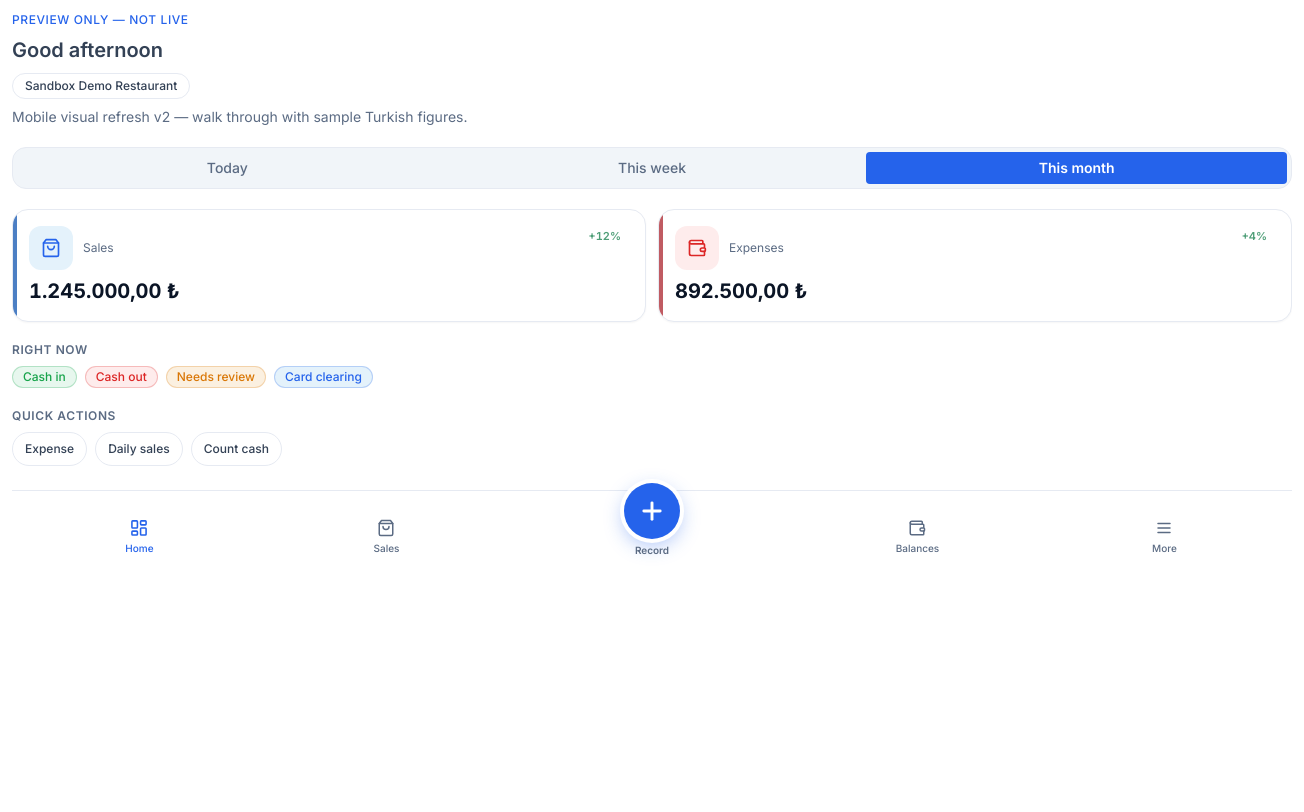
Scenario: interactive preview tabs and drill-in › tapping each tab renders that screen
The image size is (1304, 812).
Expected: the element that starts with "Preview only — not live" is shown, [12,12,1292,466]
Click the button "Sales" at (386, 536), box [263,509,510,564]
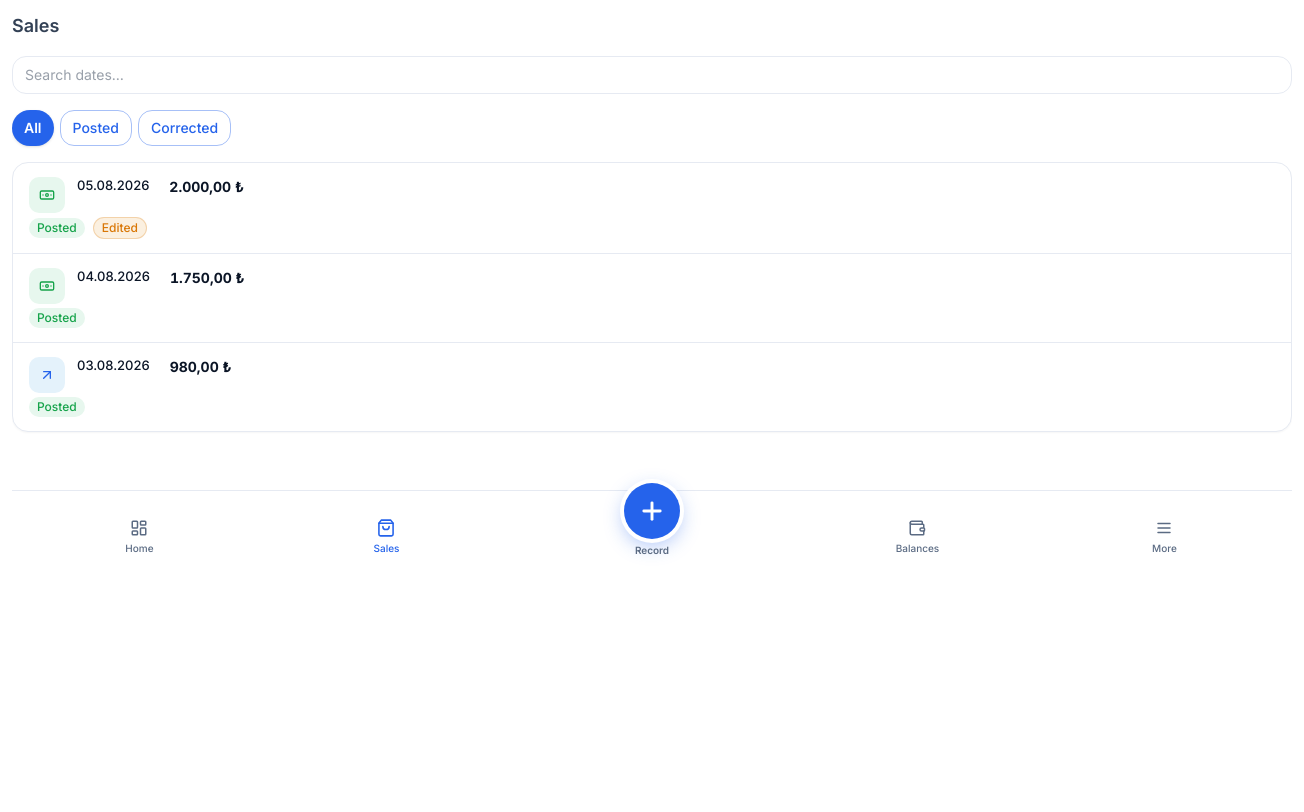
Now the element that starts with "Sales" is shown, box [12,12,1292,432]
Click the button "Balances" at (918, 536), box [794,509,1041,564]
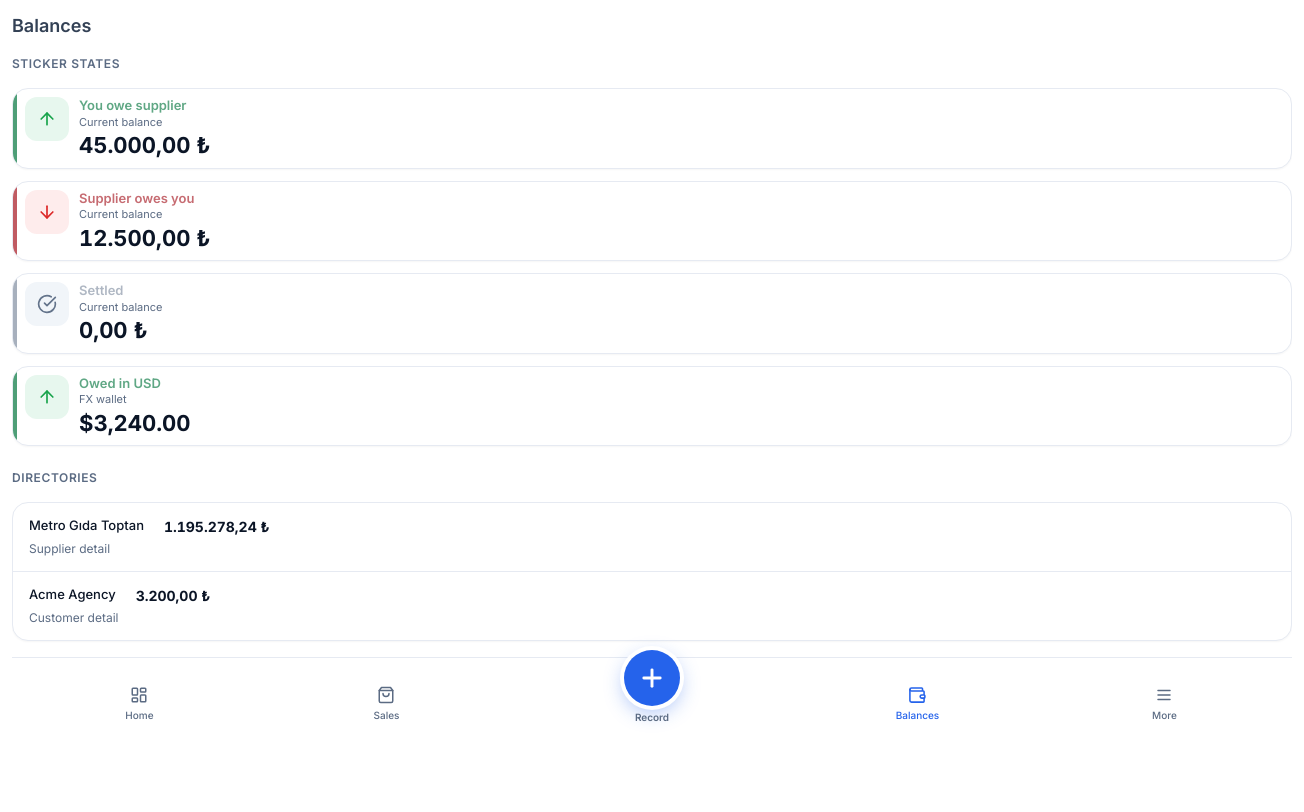
Now the element that starts with "Balances" is shown
Click the button "Record" at (652, 700), box [510,670,794,731]
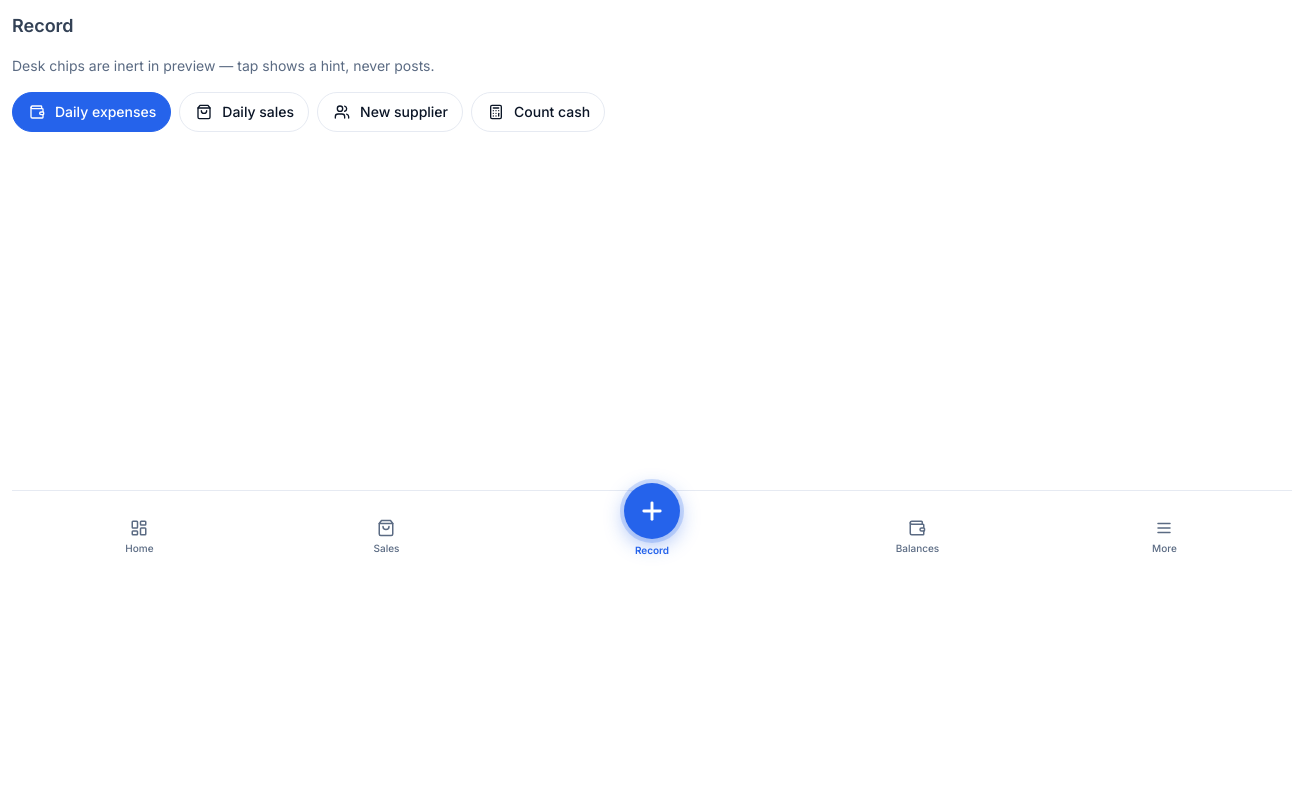
Now the element that starts with "Record" is shown, box [12,15,605,132]
Click the button "More" at (1164, 536), box [1041,509,1288,564]
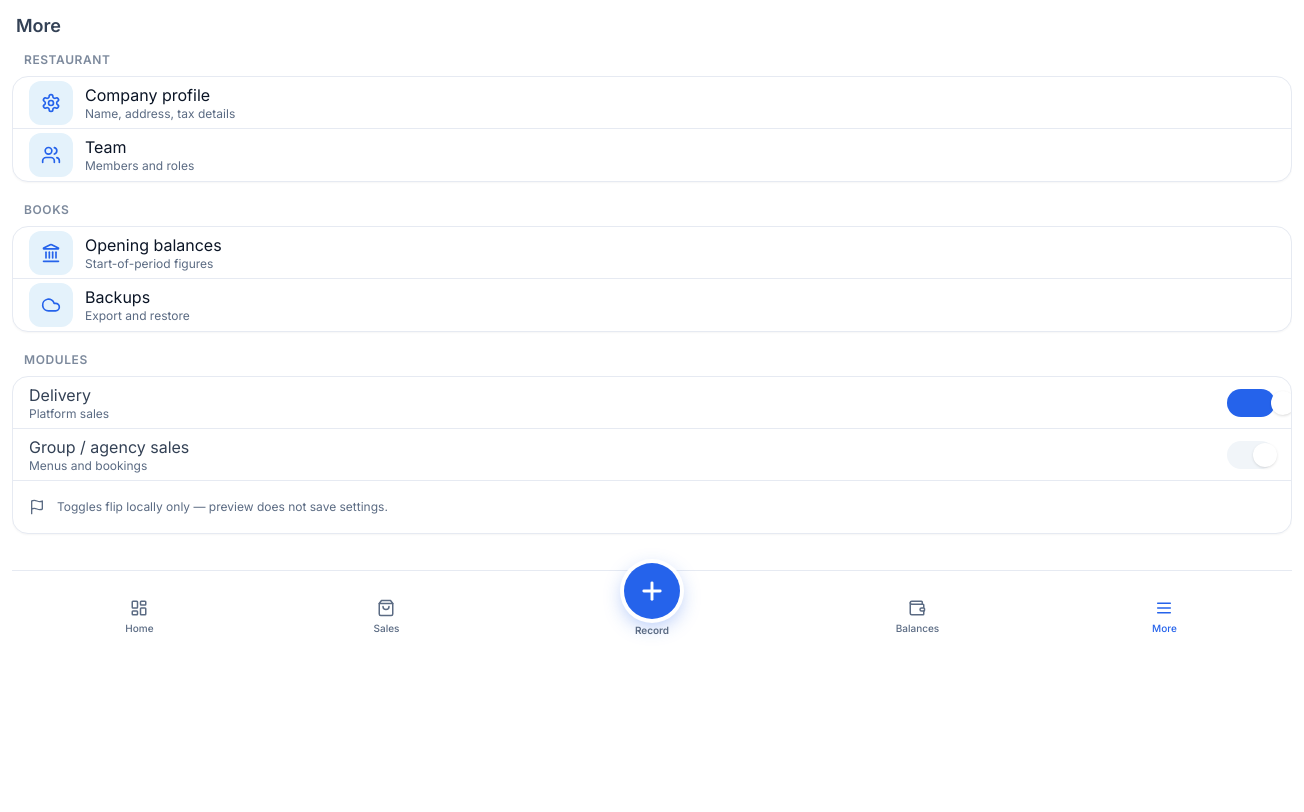
Now the element that starts with "More" is shown
Click the button "Home" at (140, 616), box [16,589,263,644]
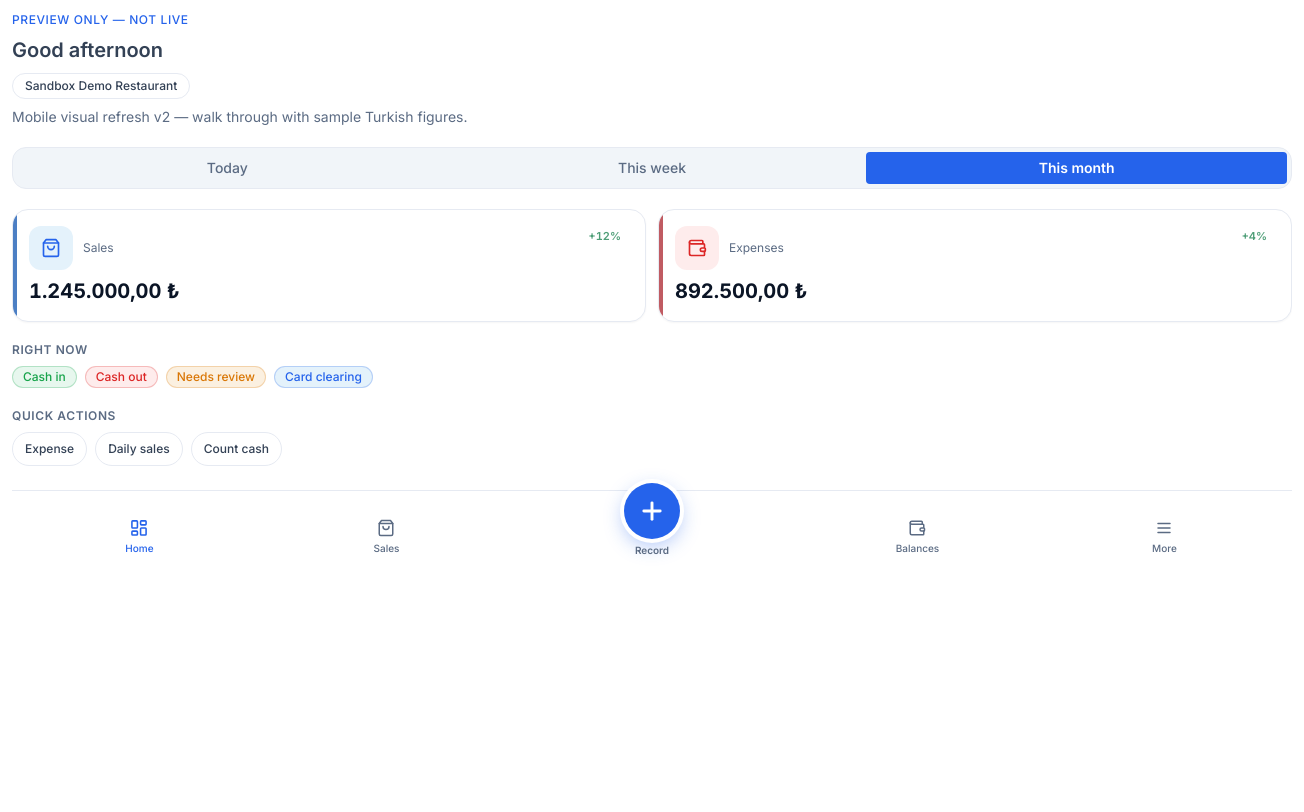
Now the element that starts with "Preview only — not live" is shown, box [12,12,1292,466]
